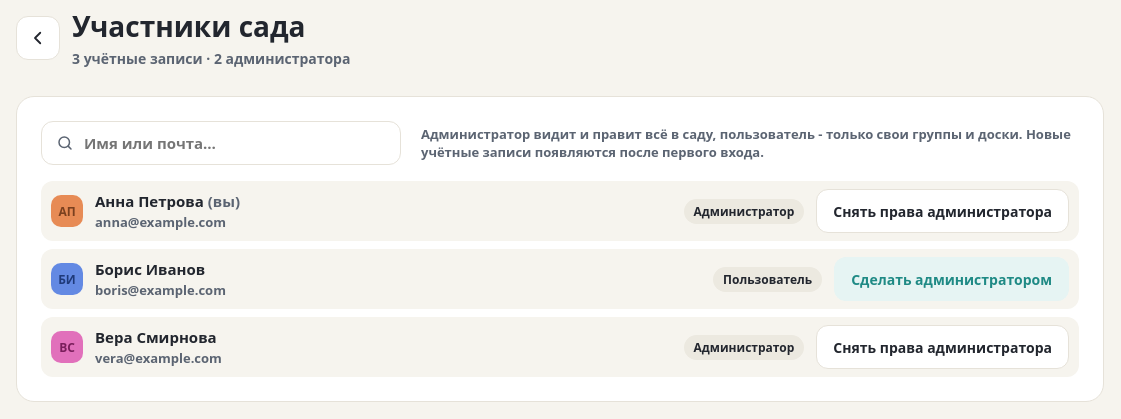
Test: PeoplePage: учётные записи сада › поиск фильтрует по имени и почте
The width and height of the screenshot is (1121, 419).
Check: the text "Борис Иванов" is shown, box [95,259,205,279]
Type "vera@" into the field named "Найти учётную запись".
click(234, 143); type("vera@")  # box [82,121,386,165]
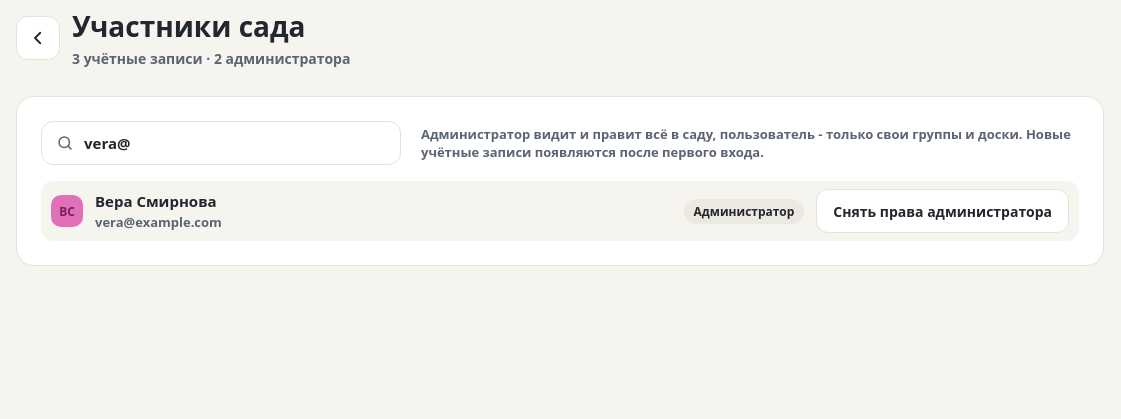
Check: the text "Вера Смирнова" is shown, box [95,191,217,211]
Check: the text "Борис Иванов" is gone
